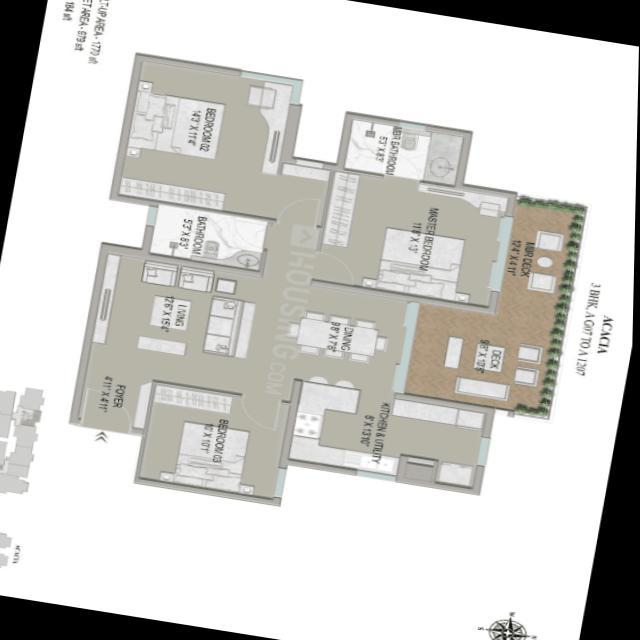Bedroom: (115, 57, 299, 218), (143, 381, 289, 498)
Bedroom with Toilet: (316, 113, 517, 312)
Dining: (283, 306, 392, 366)
Enterance-Foyer: (73, 369, 157, 438)
Kitchen: (293, 384, 483, 491)
Living: (87, 252, 287, 398)
Toilet: (148, 204, 268, 271), (343, 118, 461, 186)
